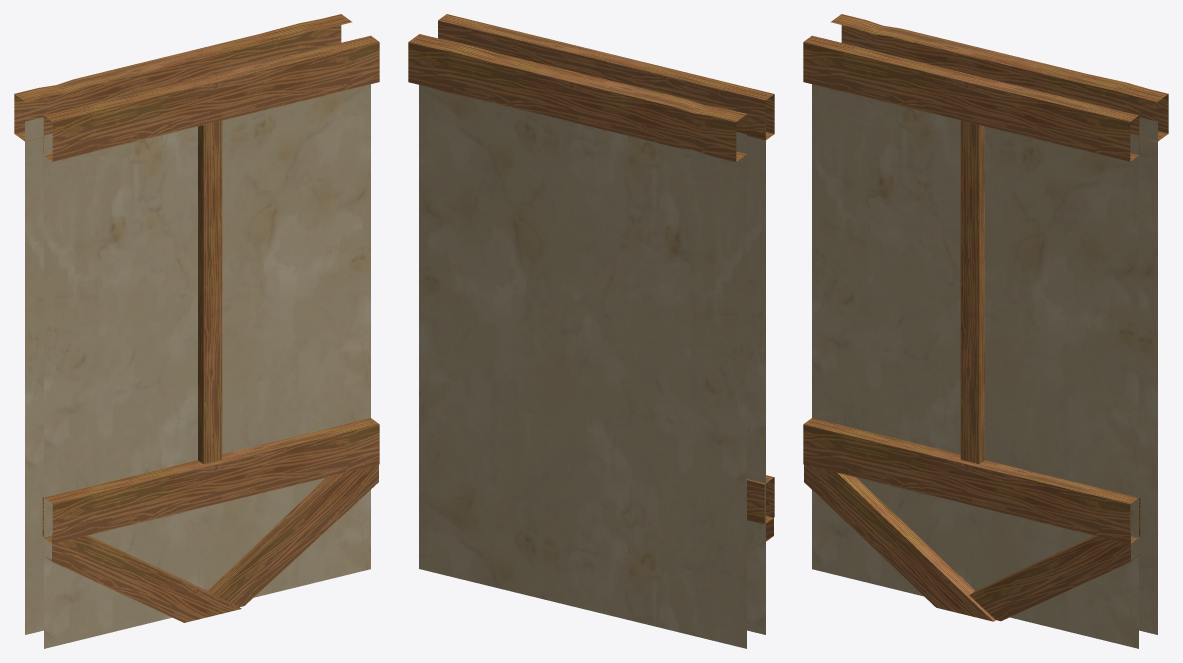
Rendered from Wall_Plaster_Straight.glb.
3 views of the same model, side by side, from view 1: azimuth 30°, elevation 25°; view 2: azimuth 150°, elevation 25°; view 3: azimuth 330°, elevation 25° (orthographic).
Visible parts, largest first — view 1: Wall_Plaster_Straight; view 2: Wall_Plaster_Straight; view 3: Wall_Plaster_Straight.
Boxes of the visible parts, x1,y1,x2,y2 form: Wall_Plaster_Straight: (14,14,379,648); Wall_Plaster_Straight: (408,14,774,648); Wall_Plaster_Straight: (803,14,1168,648).
Bounding box in the file's own units: 2 × 3.12 × 0.4066.
Materials: 2 (2 with a texture image).
